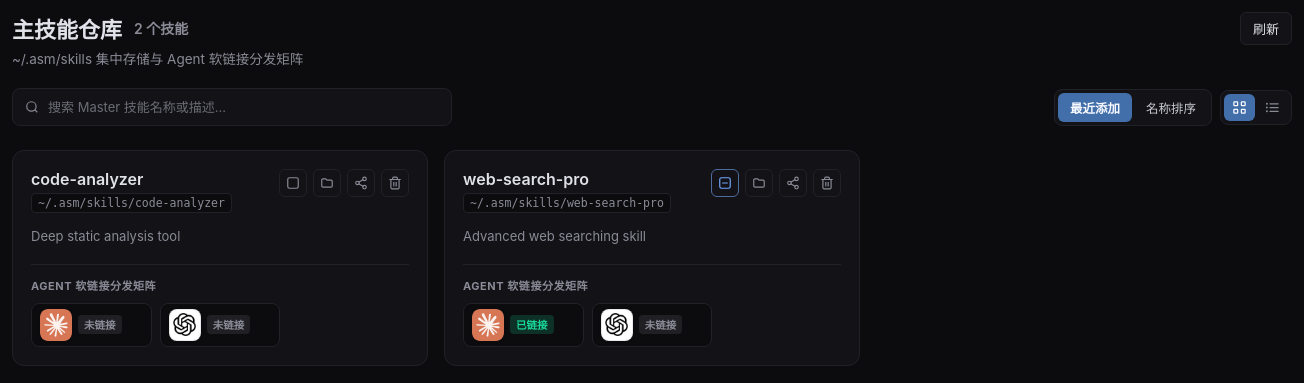
Test: SkillLibrary Route › shows Chinese tooltip copy when Chinese is active
Focus the button named "Link all Agents for web-search-pro" at (725, 183), box [711,169,739,197]
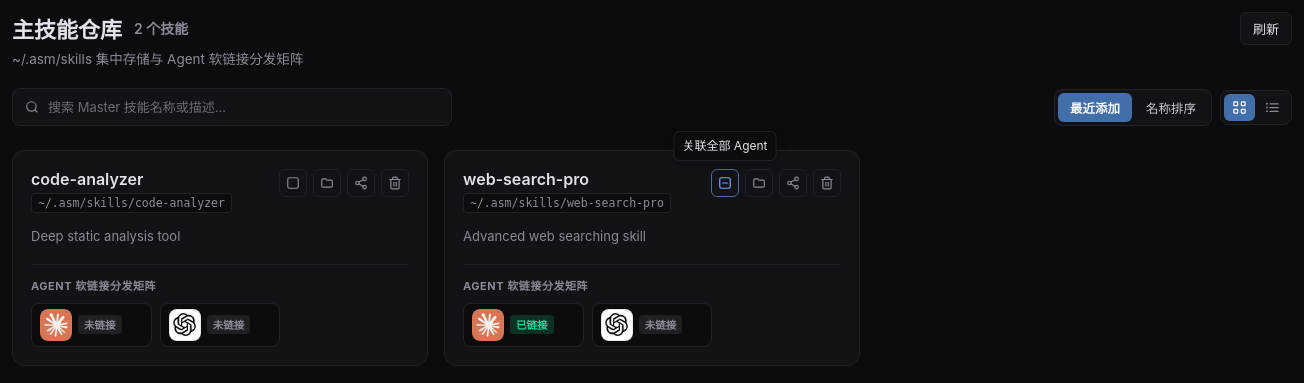
Expected: the tooltip reads "关联全部 Agent", [682,138,768,153]
